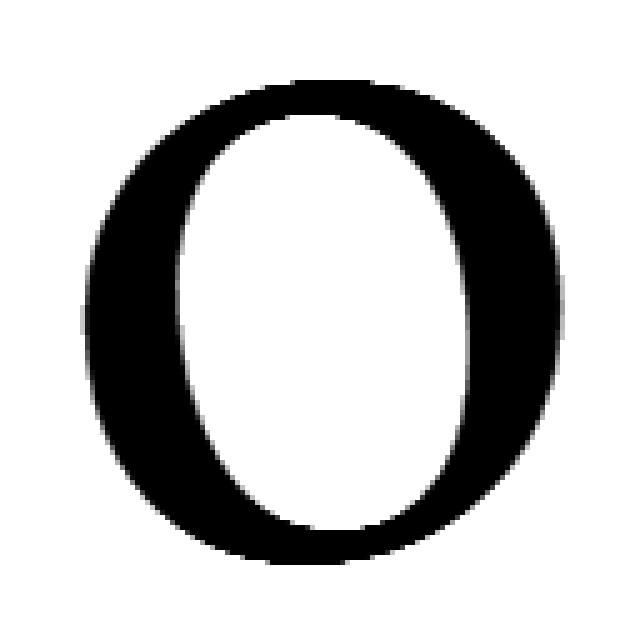O: (80, 80, 565, 570)
